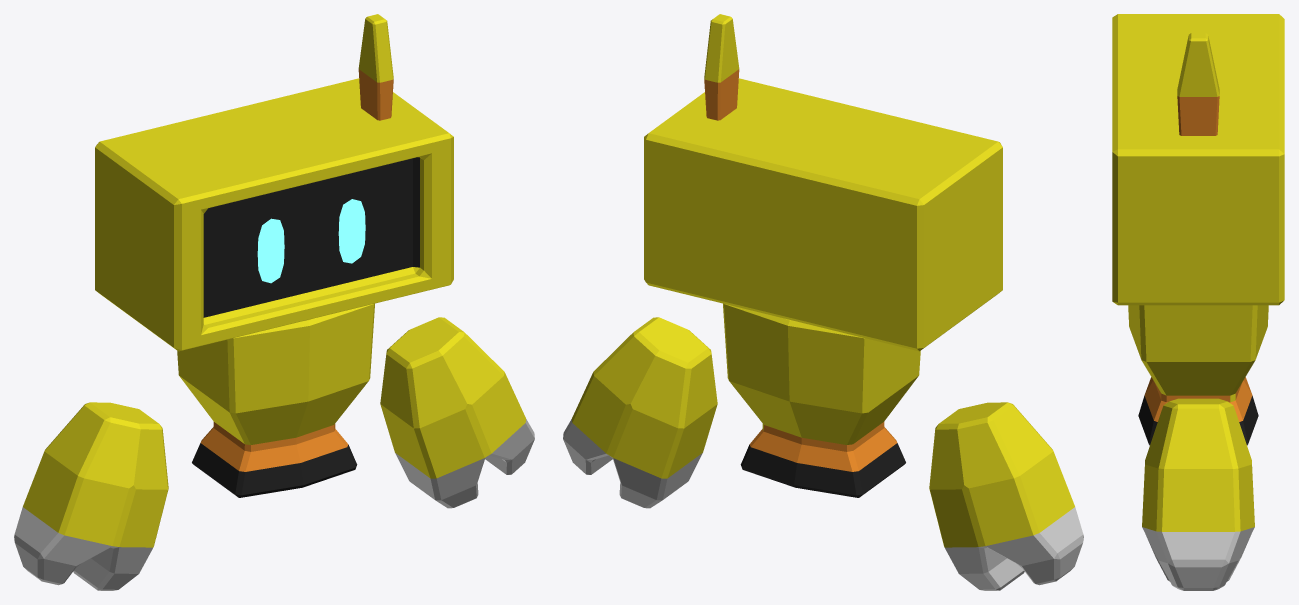
Rendered from Robot01.fbx.
The picture shows the model from 3 angles, left to right: view 1: azimuth 30°, elevation 25°; view 2: azimuth 150°, elevation 25°; view 3: azimuth 270°, elevation 25°; orthographic projection. The views are drawn at different scales.
Parts seen in each view (by area): view 1: Cube.004, Cube.006, Cube.005, Cube.007, Plane.001; view 2: Cube.004, Cube.006, Cube.005, Cube.007; view 3: Cube.004, Cube.006, Cube.005, Cube.007.
Part boxes in pixels (x1,y1,x2,y2): Cube.004: (95, 78, 453, 351); Cube.006: (14, 317, 534, 590); Cube.005: (177, 303, 374, 497); Cube.007: (358, 14, 393, 120); Plane.001: (257, 199, 365, 283); Cube.004: (644, 78, 1002, 351); Cube.006: (563, 317, 1083, 590); Cube.005: (723, 303, 920, 497); Cube.007: (704, 14, 739, 120); Cube.004: (1112, 14, 1284, 305); Cube.006: (1142, 398, 1254, 590); Cube.005: (1128, 305, 1268, 445); Cube.007: (1177, 33, 1219, 135).
Bounding box in the file's own units: 110 × 106 × 32.18.
